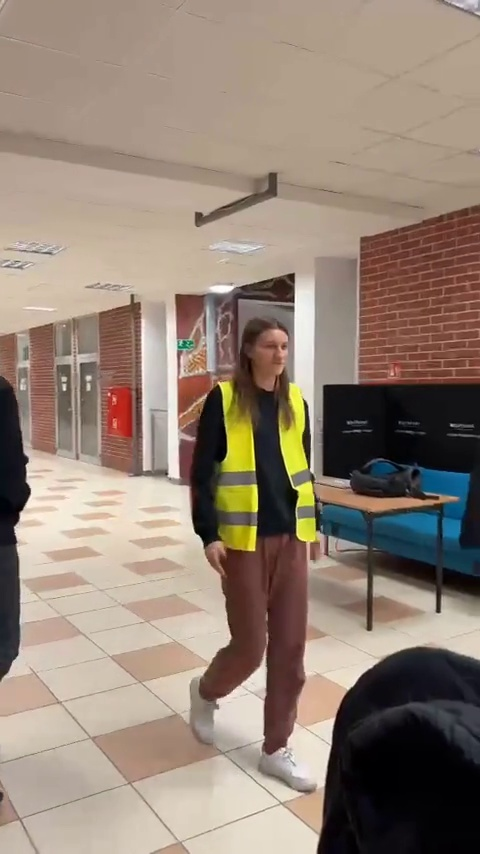vest: (193, 316, 331, 798)
